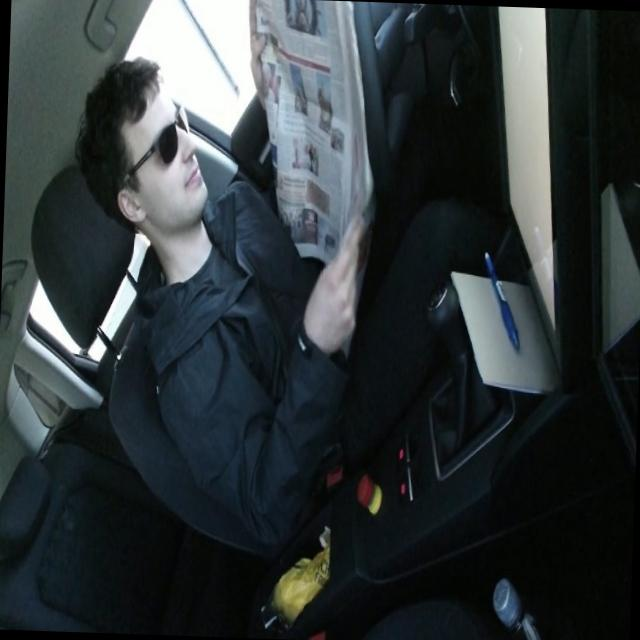pen: (479, 248, 524, 351)
